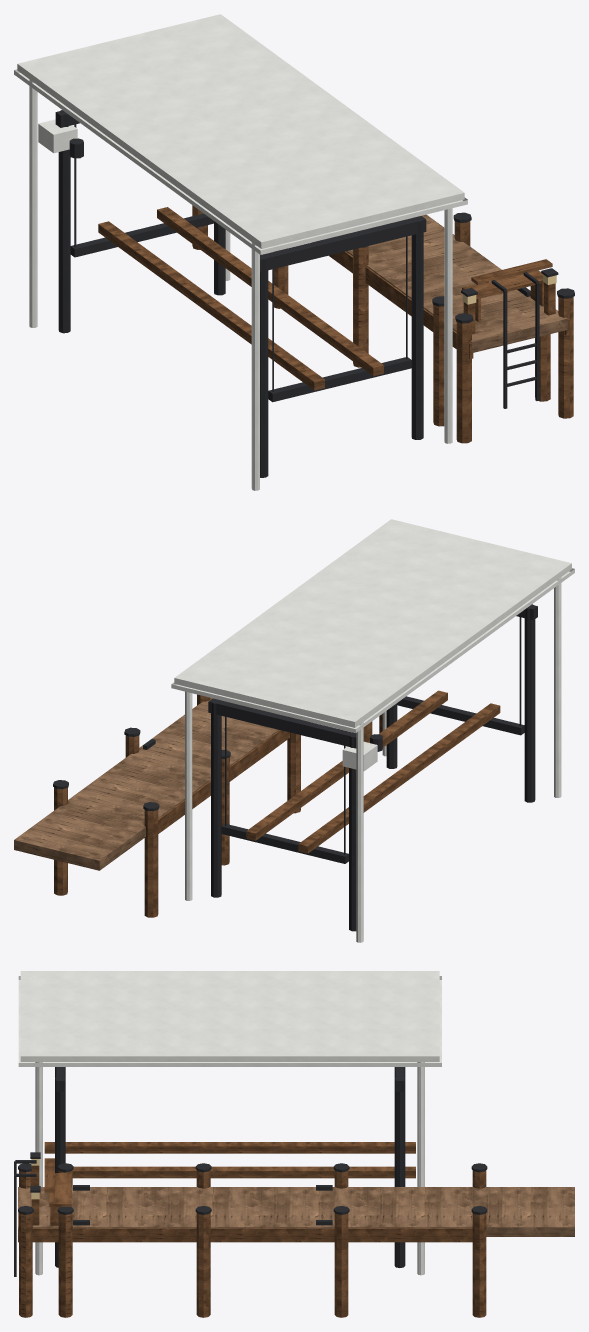
Rendered from se_dock_lift_white.fbx.
3 views of the same model, one above another, from view 1: azimuth 30°, elevation 25°; view 2: azimuth 150°, elevation 25°; view 3: azimuth 270°, elevation 25° (orthographic). The views are drawn at different scales.
Parts seen in each view (by area): view 1: se_dock_lift_white_LOD0; view 2: se_dock_lift_white_LOD0; view 3: se_dock_lift_white_LOD0.
Part boxes in pixels (box(x1,y1,x2,y2)): se_dock_lift_white_LOD0: box(14, 14, 574, 490); se_dock_lift_white_LOD0: box(14, 519, 574, 942); se_dock_lift_white_LOD0: box(14, 971, 574, 1317).
Size of what is drawn, in the model's own units: 5.94 by 4.57 by 10.57.
Materials: 1 (1 with a texture image).
